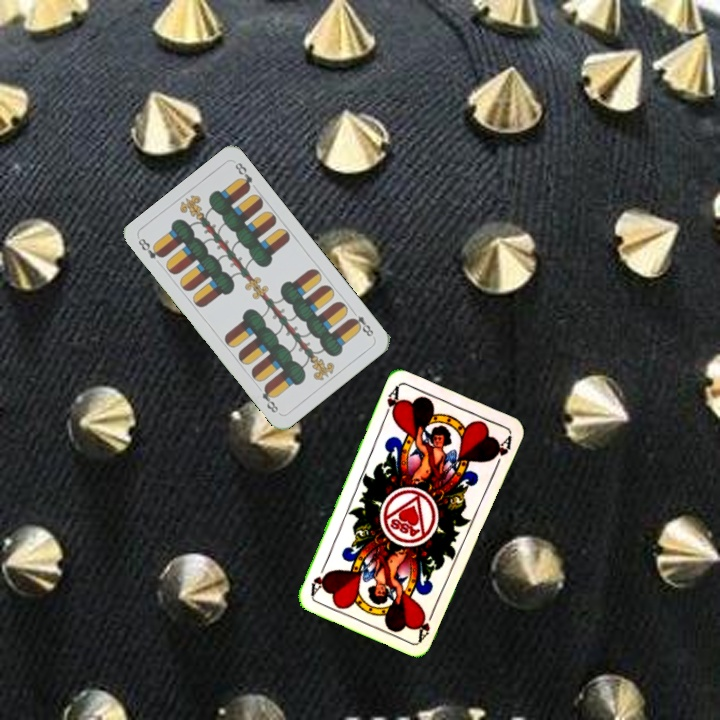E8: (346, 305, 376, 339), (134, 234, 166, 261)
HA: (379, 382, 403, 422), (414, 604, 438, 643)
